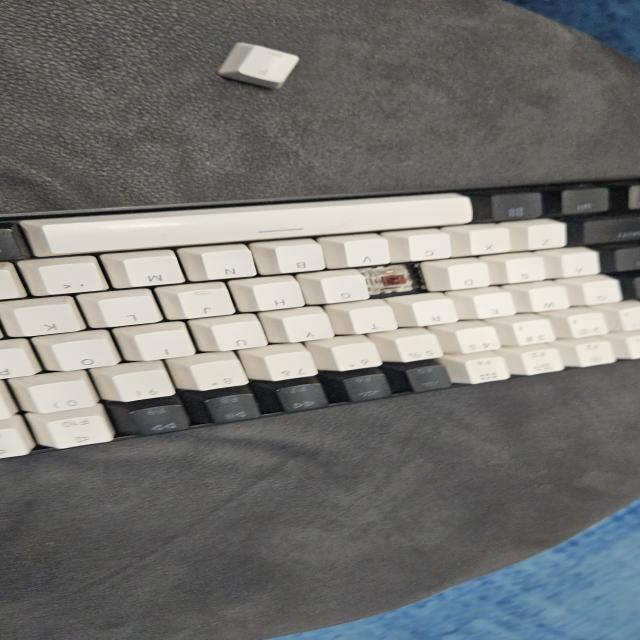C: (373, 266, 415, 294)
